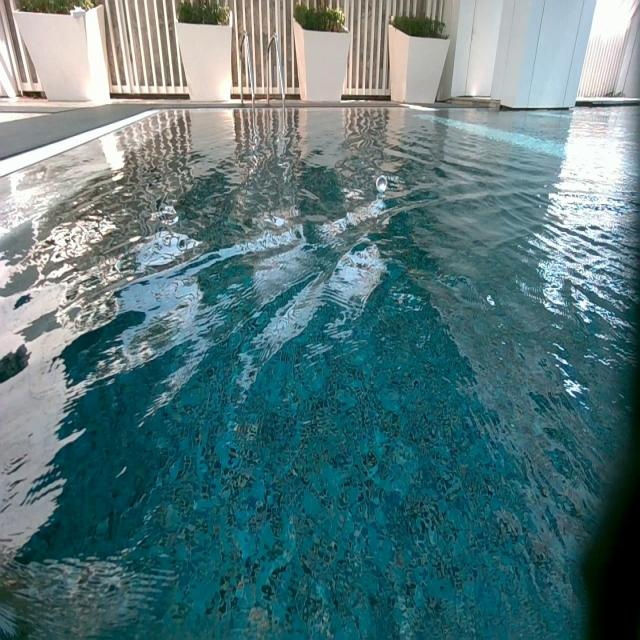Cans: (376, 175, 389, 190)
